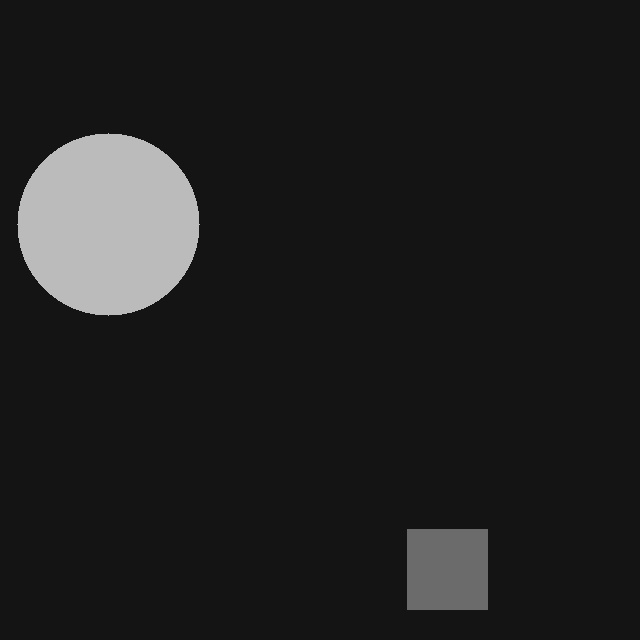circle: (17, 133, 199, 315)
square: (407, 529, 487, 609)
